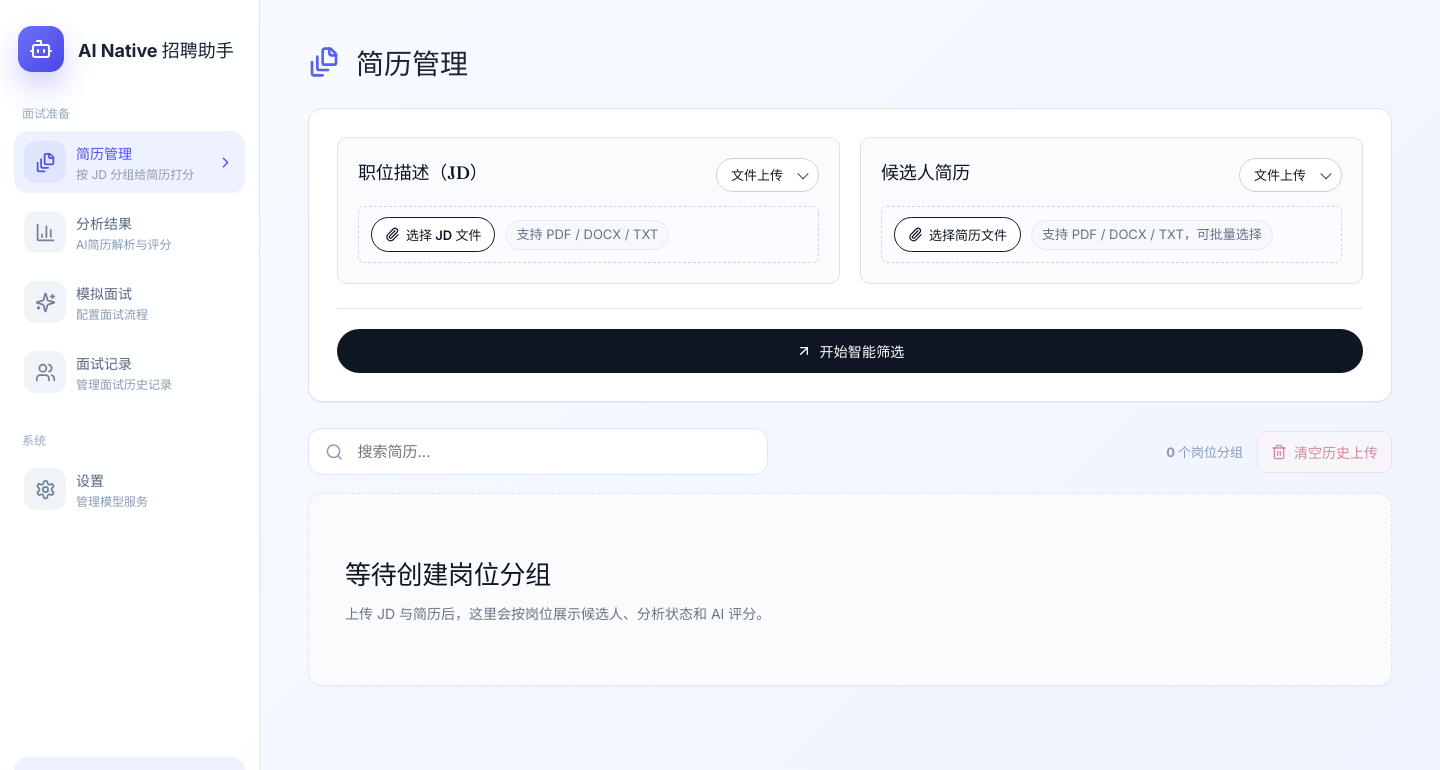
Scenario: App › shows a visible warning when an analysis used LLM fallback
The width and height of the screenshot is (1440, 770).
Select "文本输入" in the dropdown labelled "职位描述（JD）" at (768,175), box [716,158,819,192]
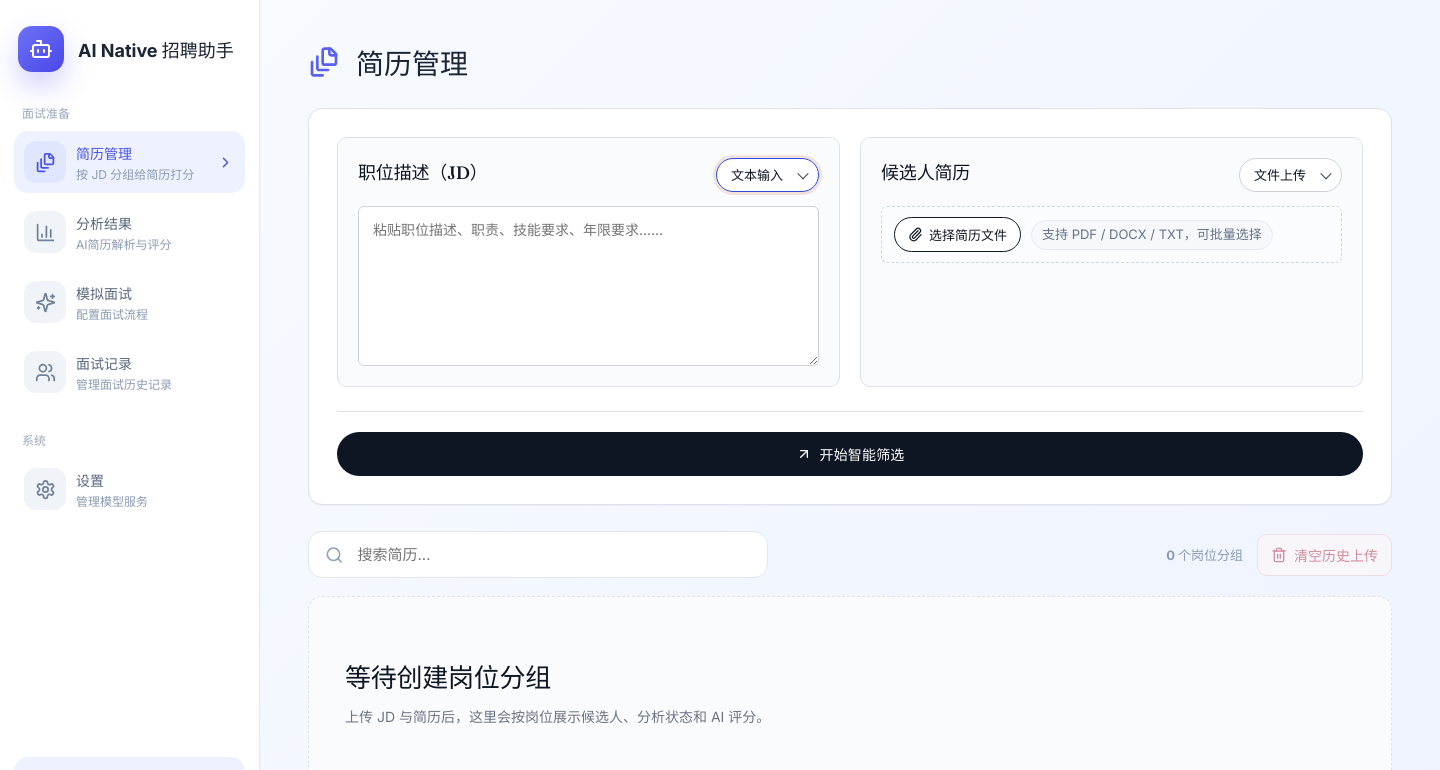
Select "文本输入" in the dropdown labelled "候选人简历" at (1290,175), box [1239,158,1342,192]
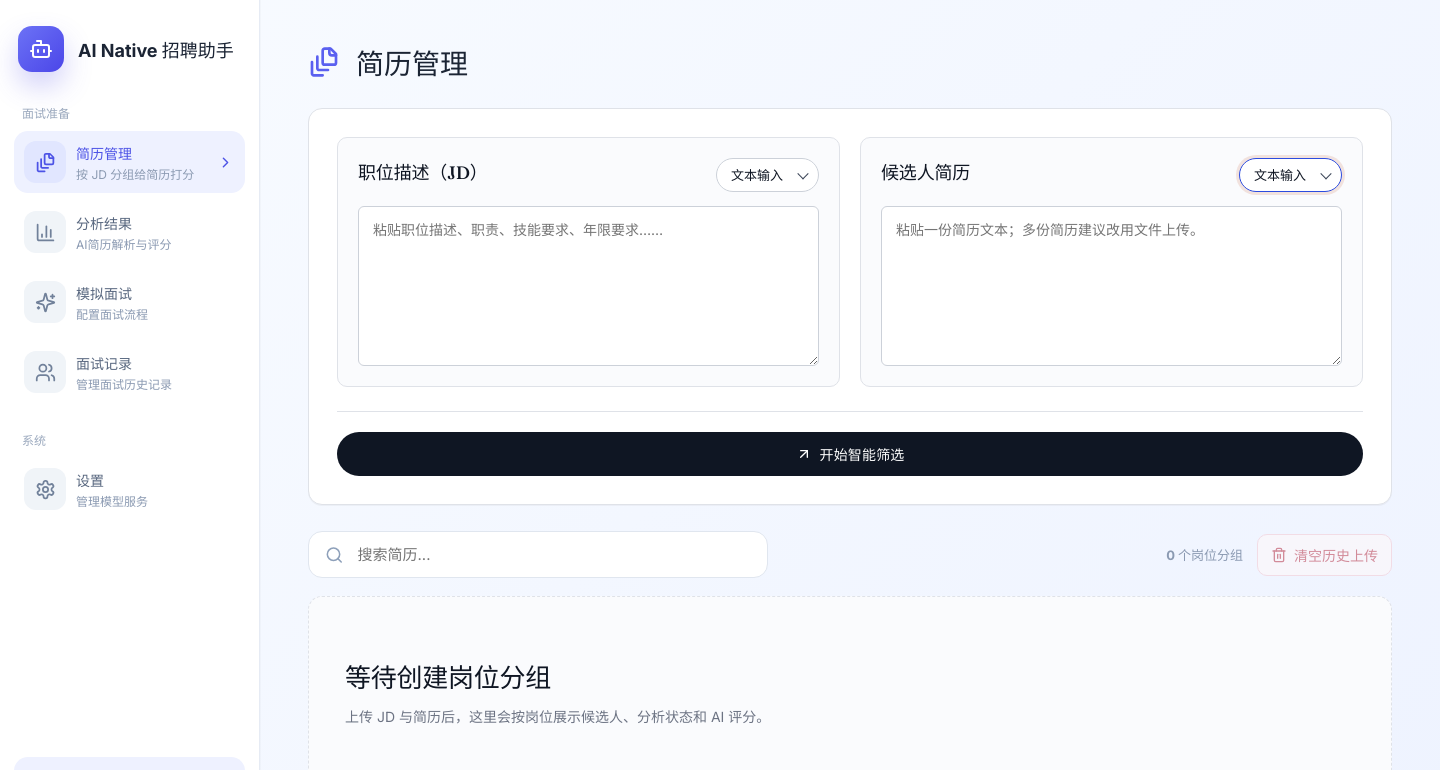
Type "高级 Python 后端工程师，5年以上经验。" into the text box named "JD 文本兜底" at (588,286), box [358,206,819,366]
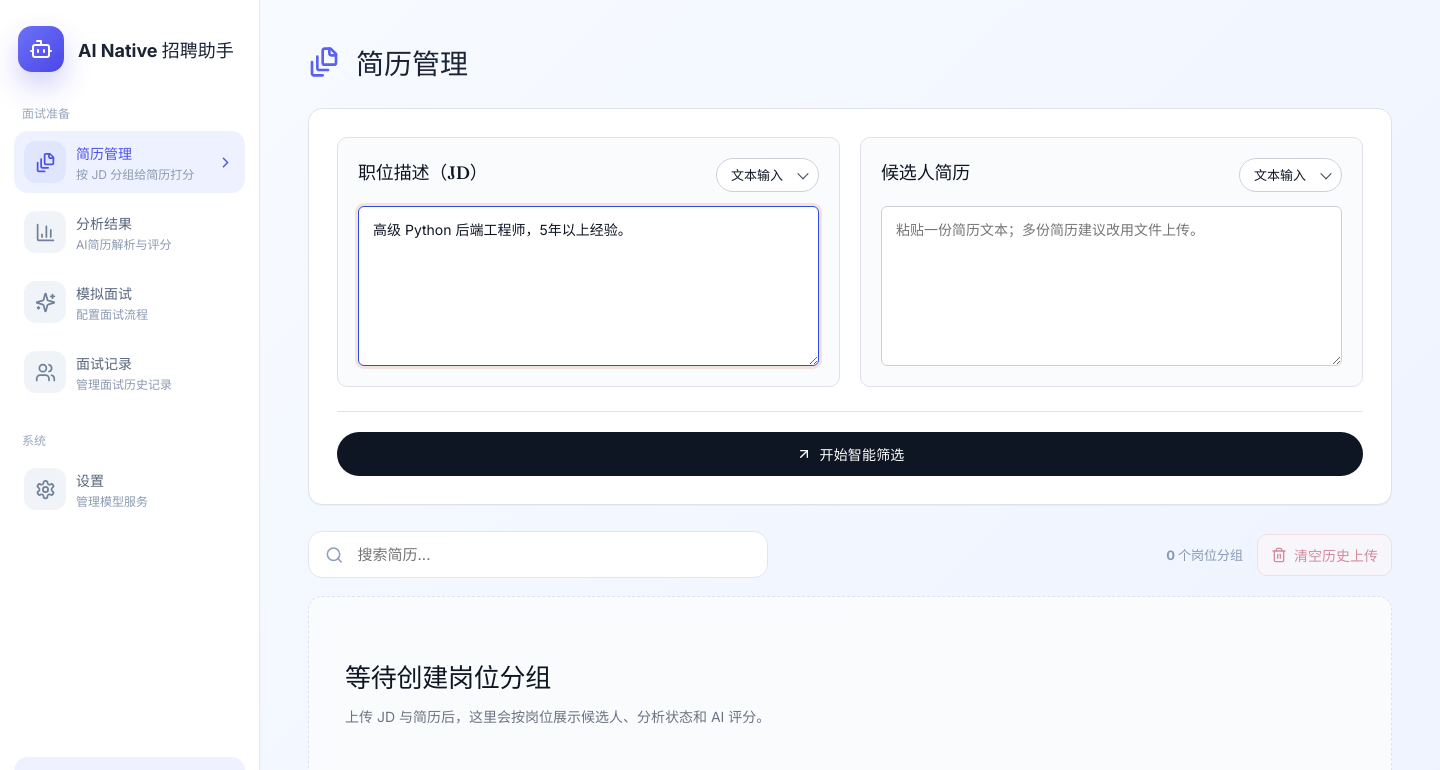
Type "王五，7年 Python 后端经验。" into the text box named "简历文本兜底" at (1112,286), box [881,206,1342,366]
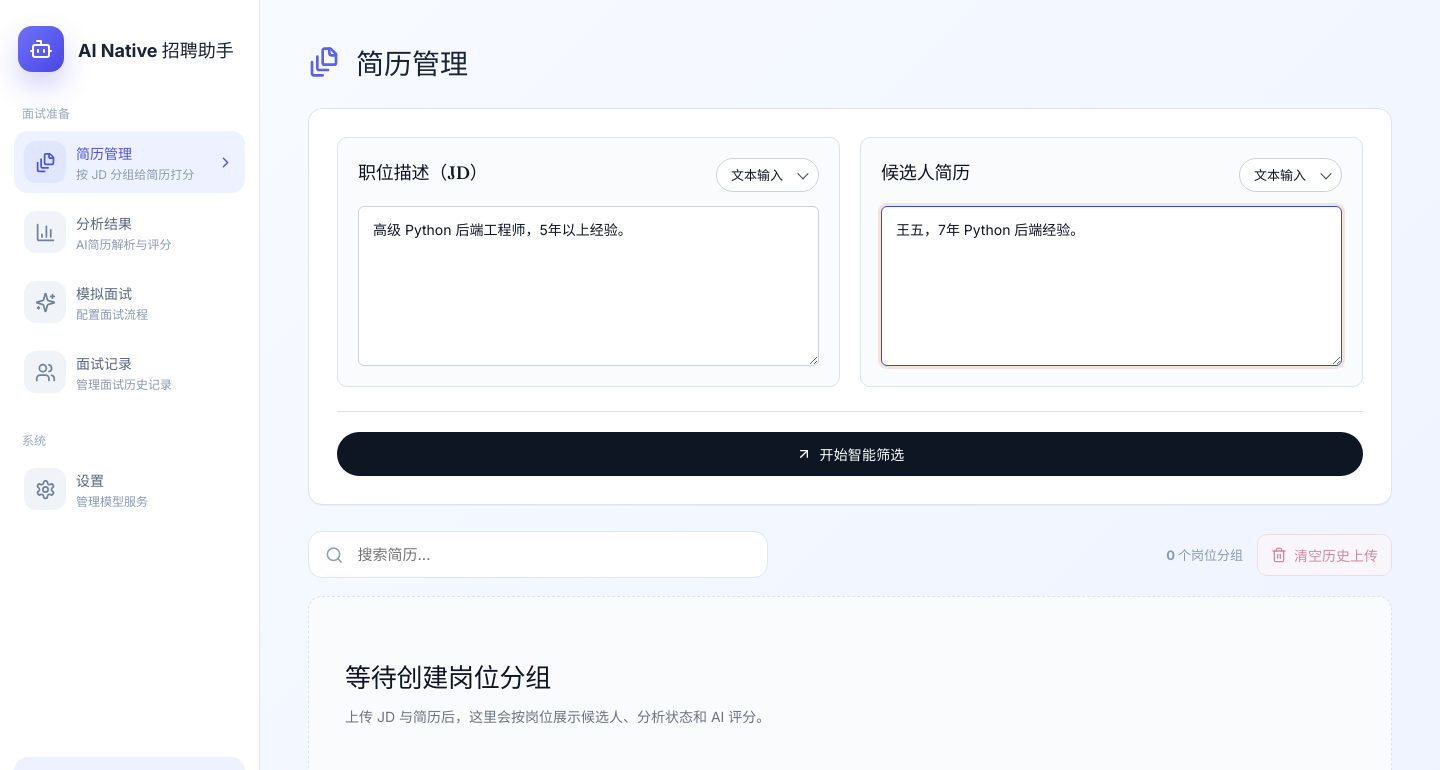
Click the button "开始智能筛选" at (850,454), box [337,432,1363,476]
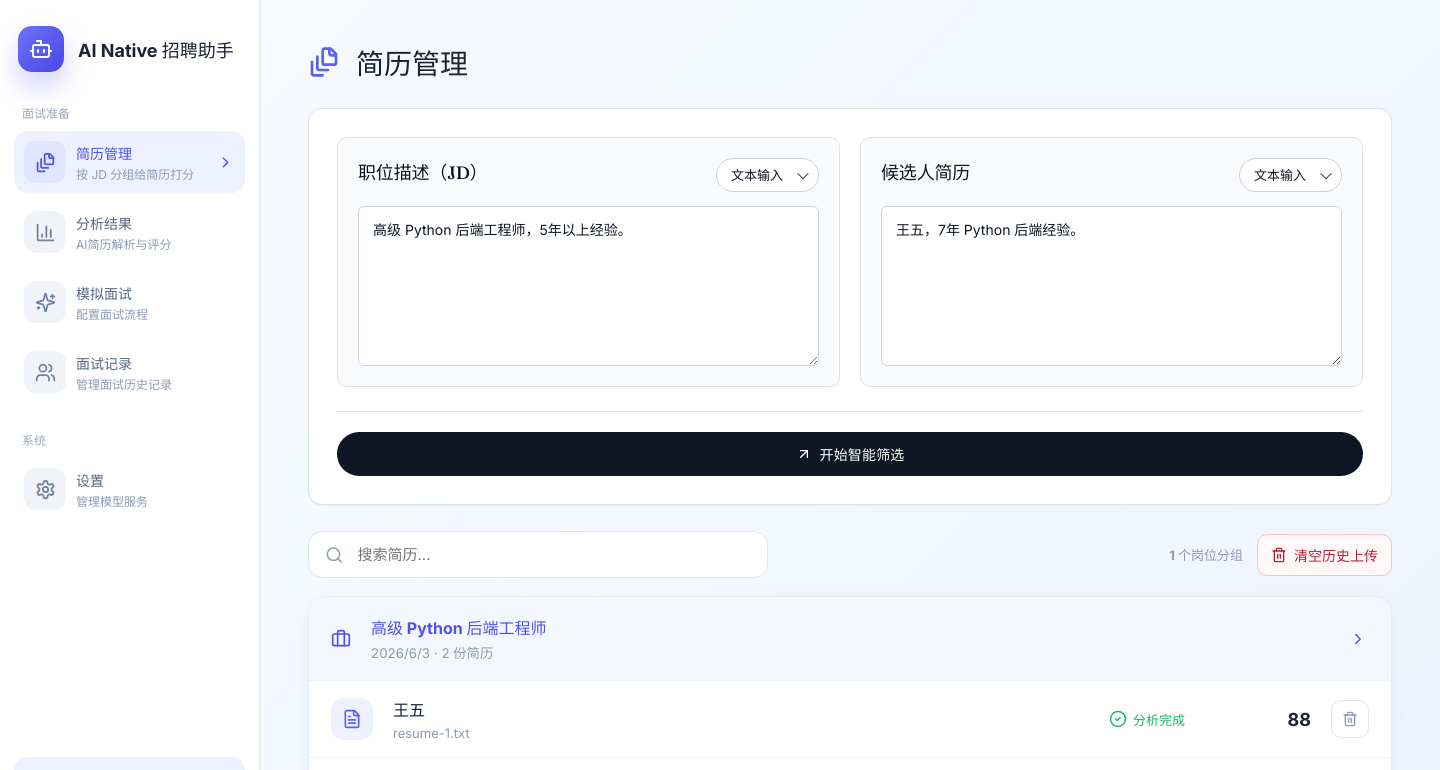
Click the button "分析结果 AI简历解析与评分" at (130,232), box [14,201,245,263]
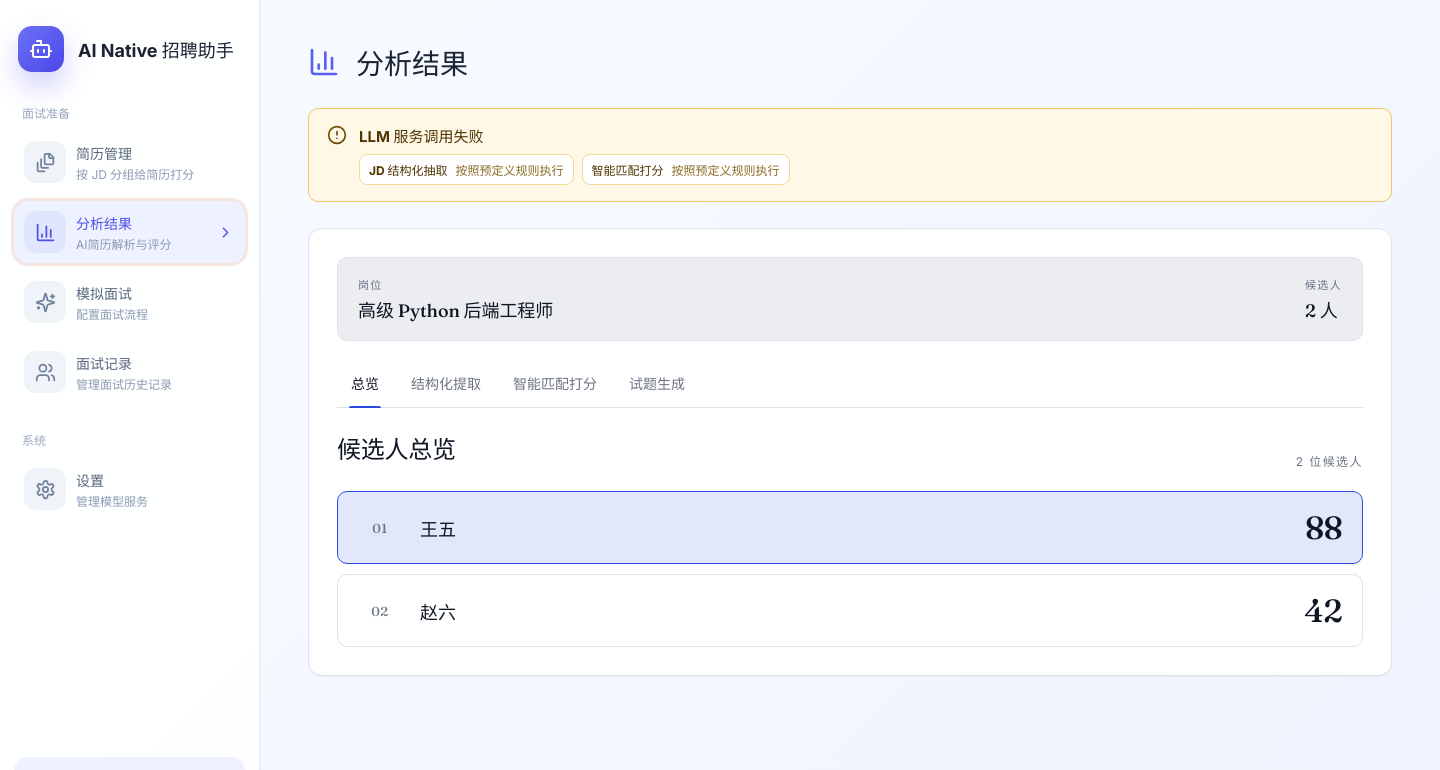
Now the text "LLM 服务调用失败" is shown, box [359,127,484,146]
Now the text "JD 结构化抽取" is shown, box [369,161,448,178]
Now the text "智能匹配打分" is shown, box [592,161,664,178]
